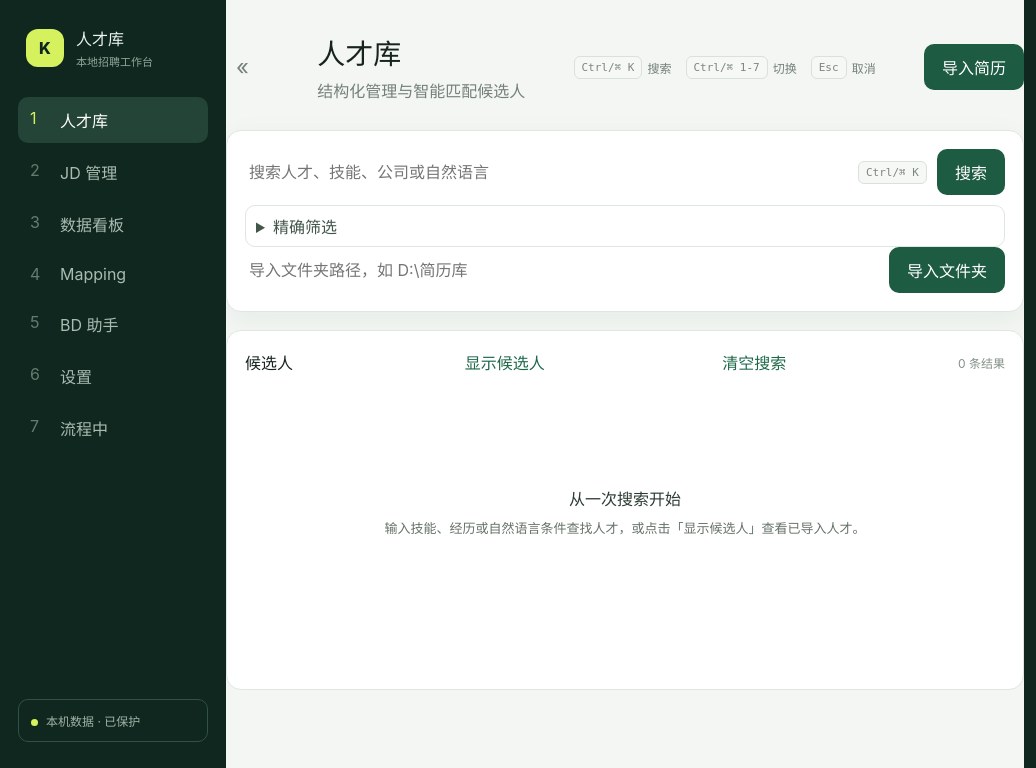
Test: desktop recruitment workflow › imports a JD and shows its revision id
This screenshot has width=1036, height=768.
Step 1. Click the button "2 JD 管理" → (113, 172), box [18, 149, 208, 195]
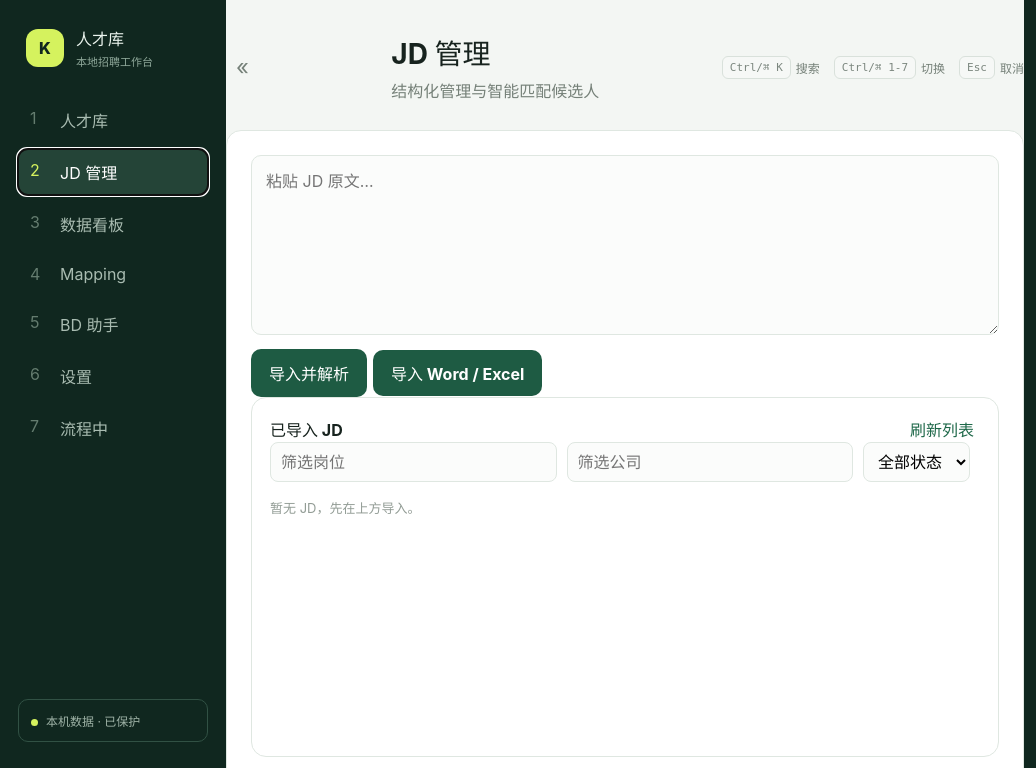
Step 2. Type "负责支付系统，3年 Java" into the text box labelled "JD 原文" → (625, 245), box [251, 155, 999, 335]
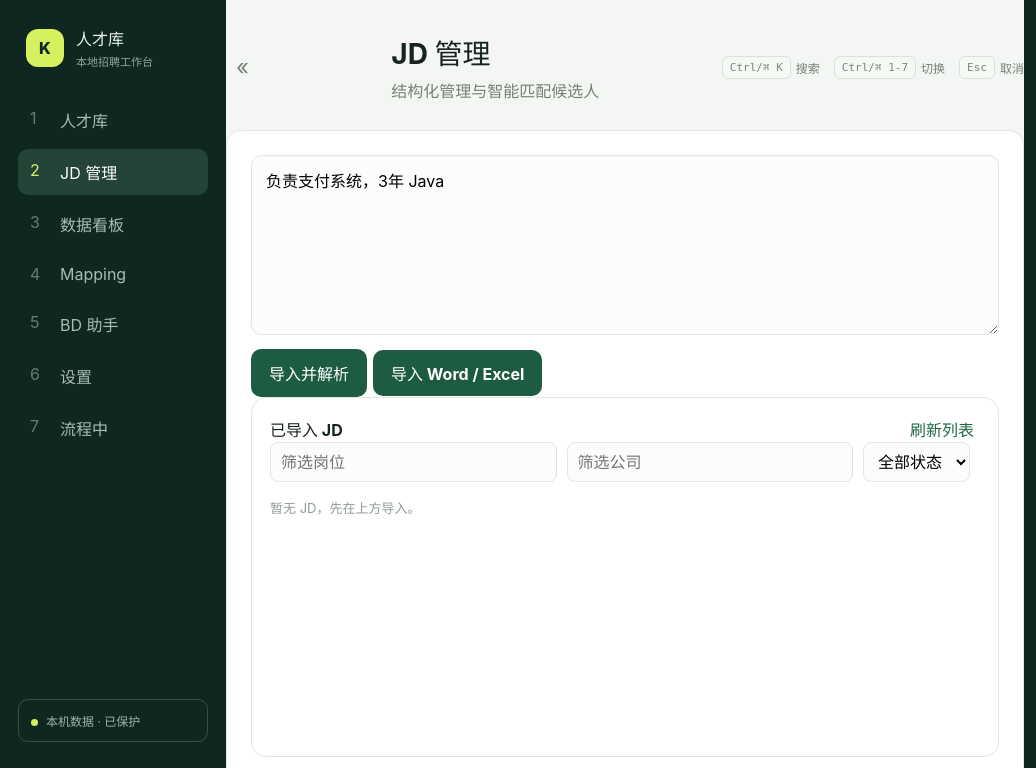
Step 3. Click the button "导入并解析" → (309, 373), box [251, 349, 367, 397]
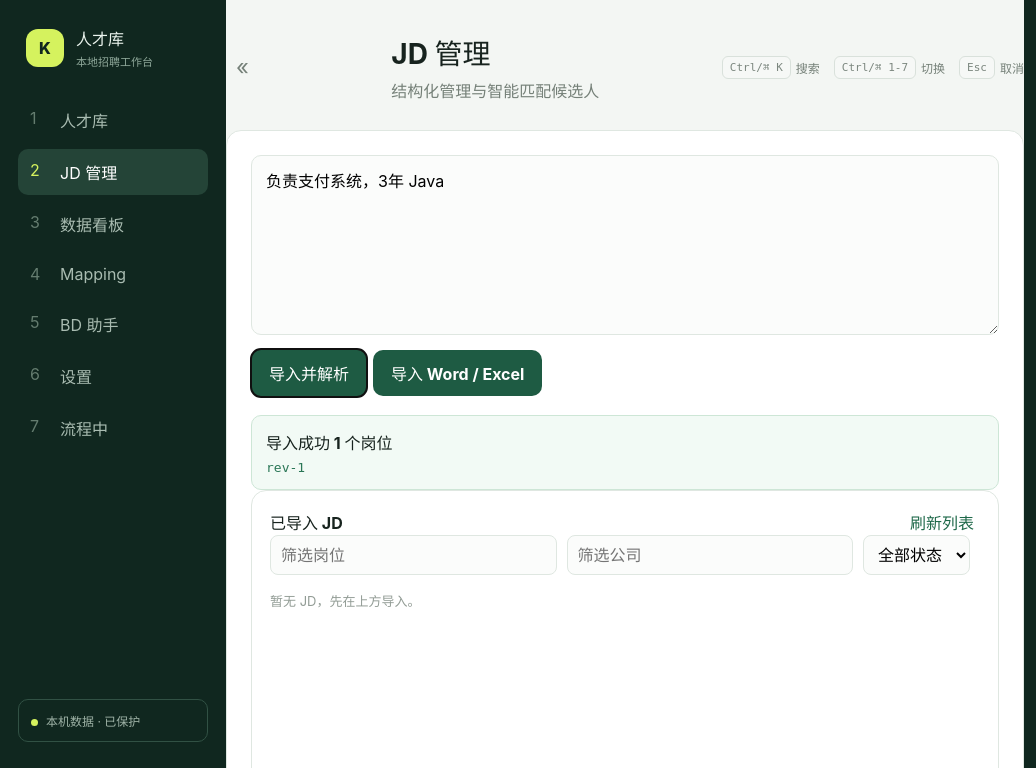
Check: the text "rev-1" is shown, box [266, 460, 305, 475]
